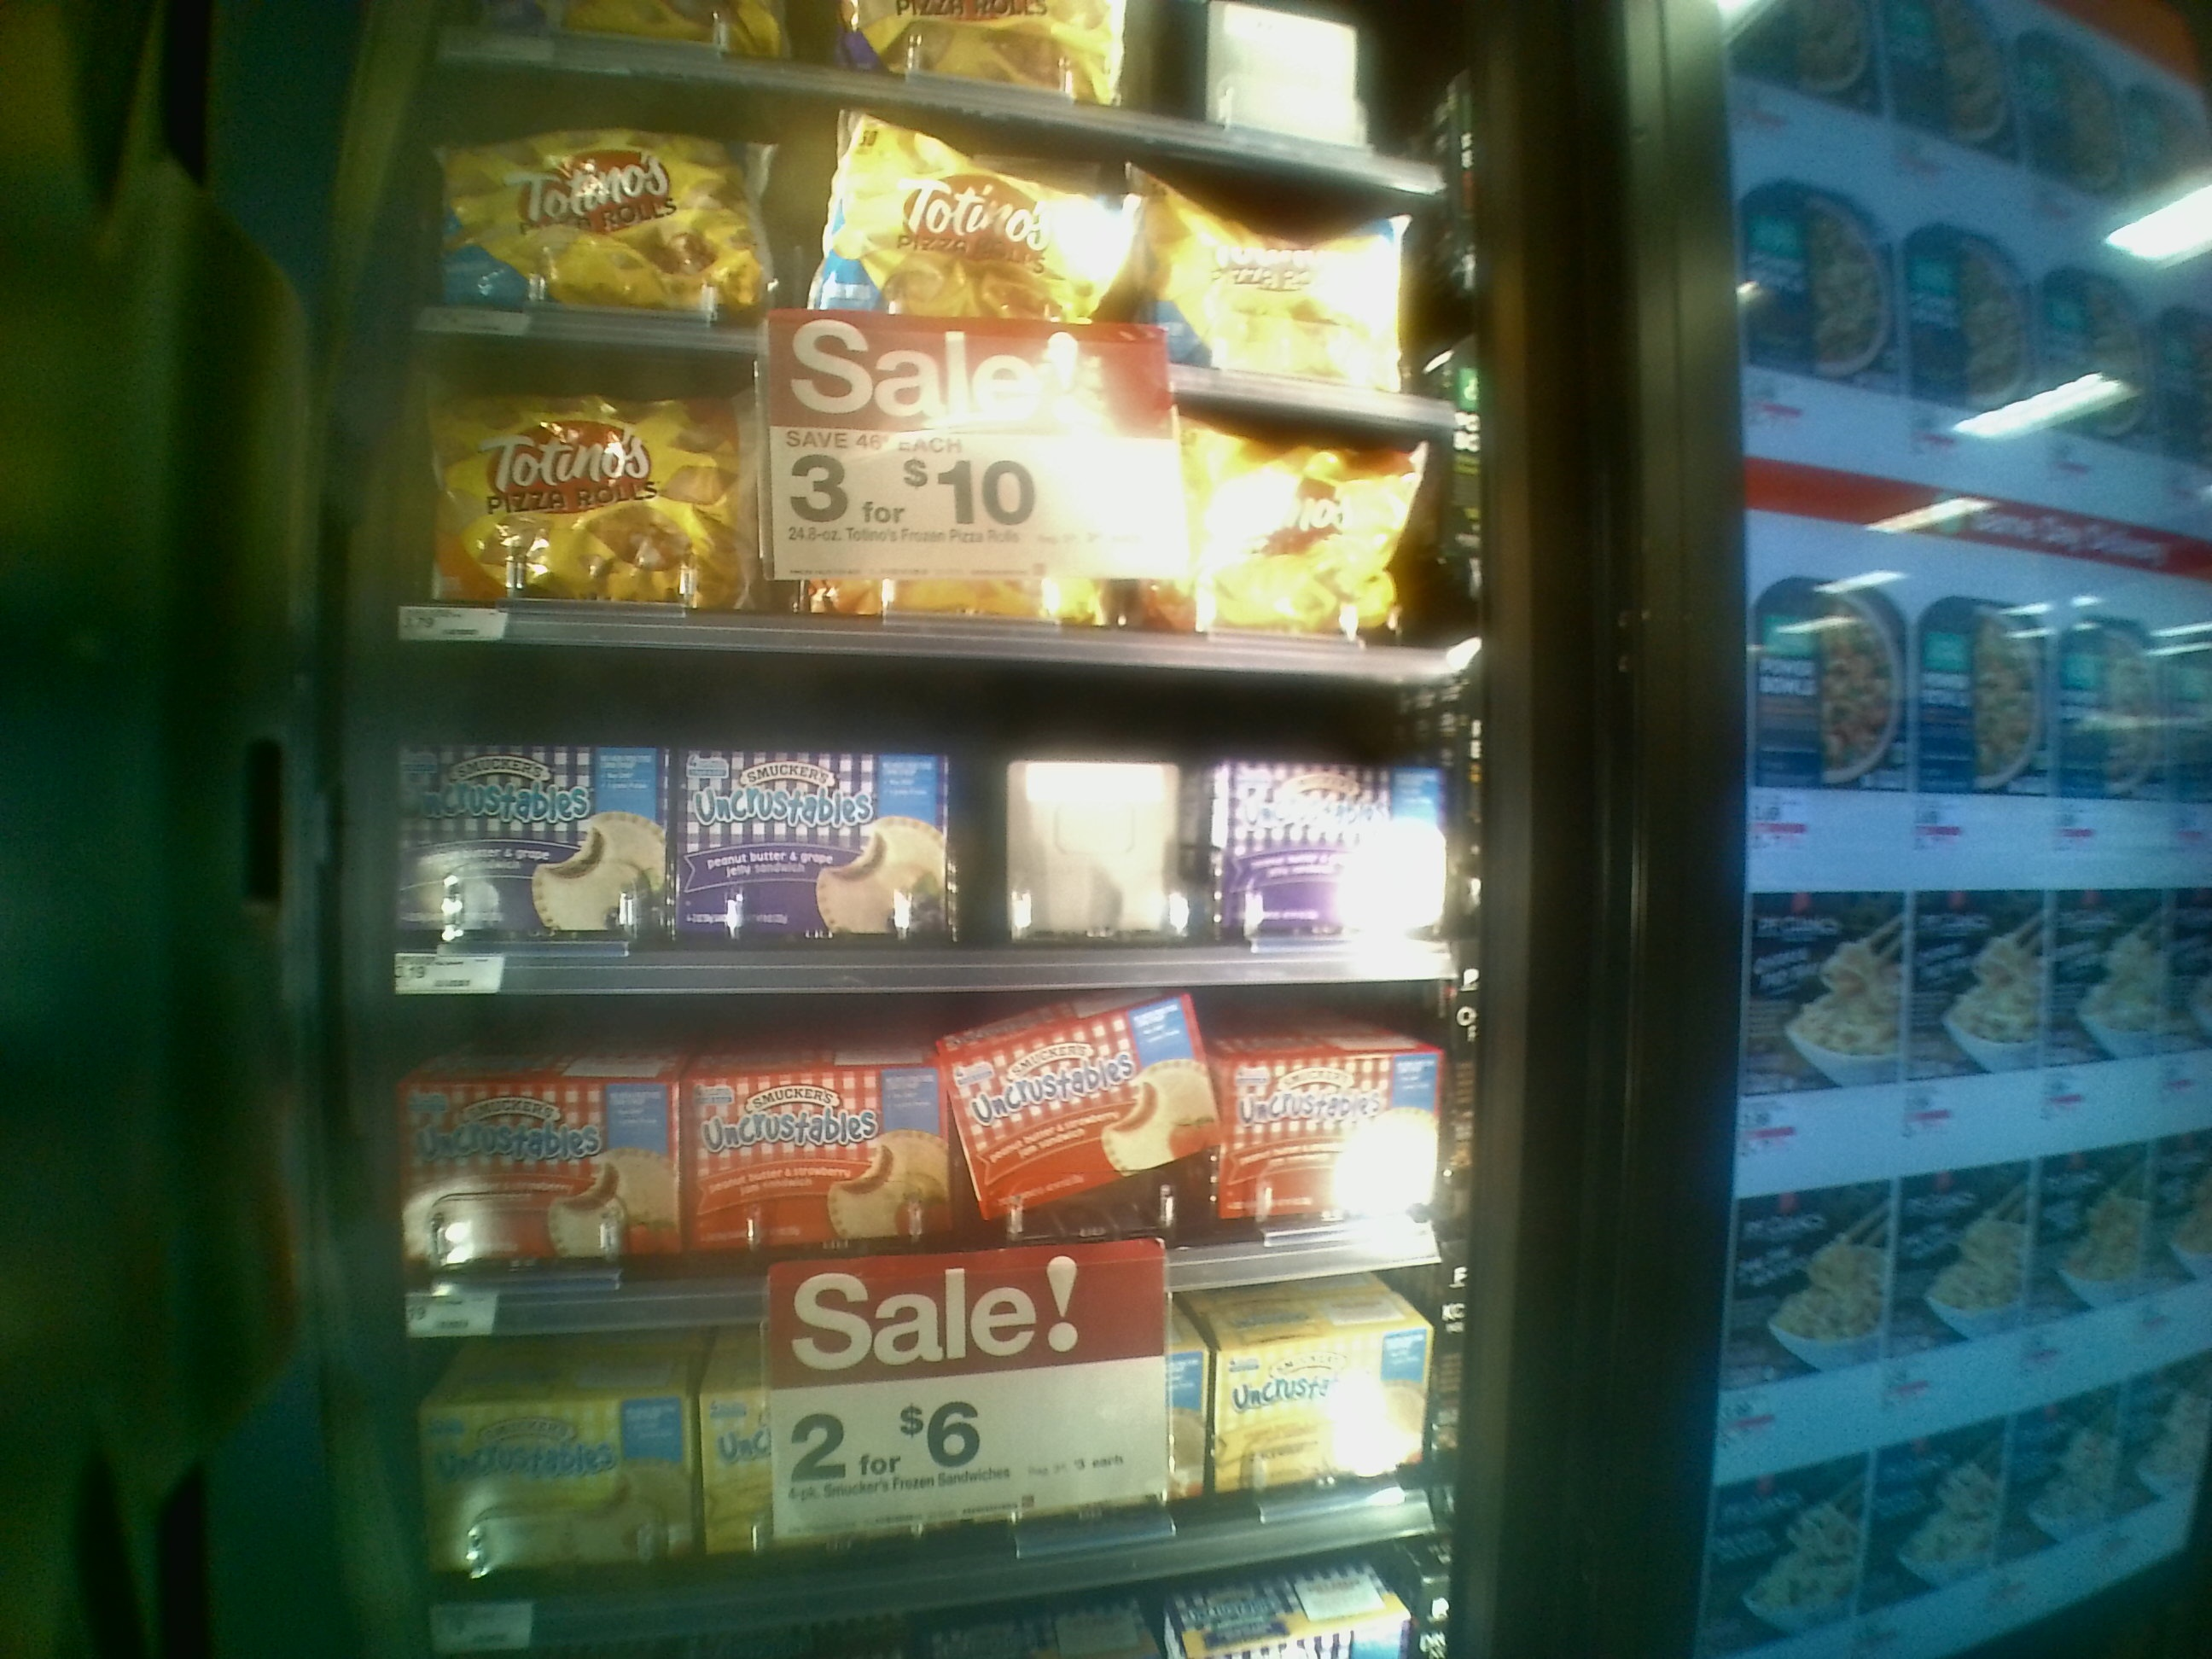shelf: (333, 319, 1456, 695), (381, 631, 1470, 986), (371, 993, 1456, 1286), (383, 1309, 1437, 1567)
